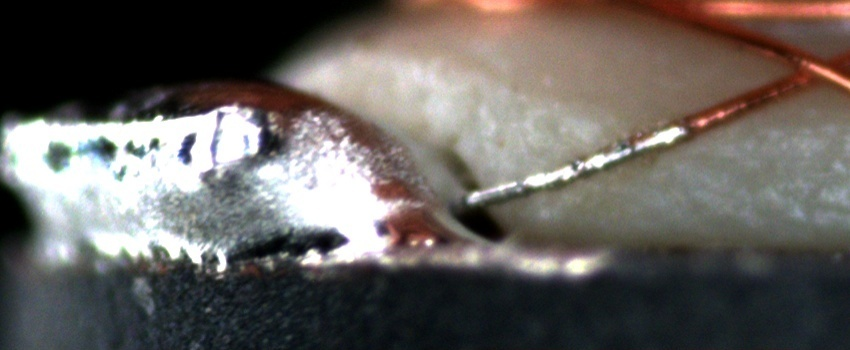CL: (767, 42, 844, 97)
DL: (555, 108, 850, 158)
TS: (453, 122, 688, 210)
